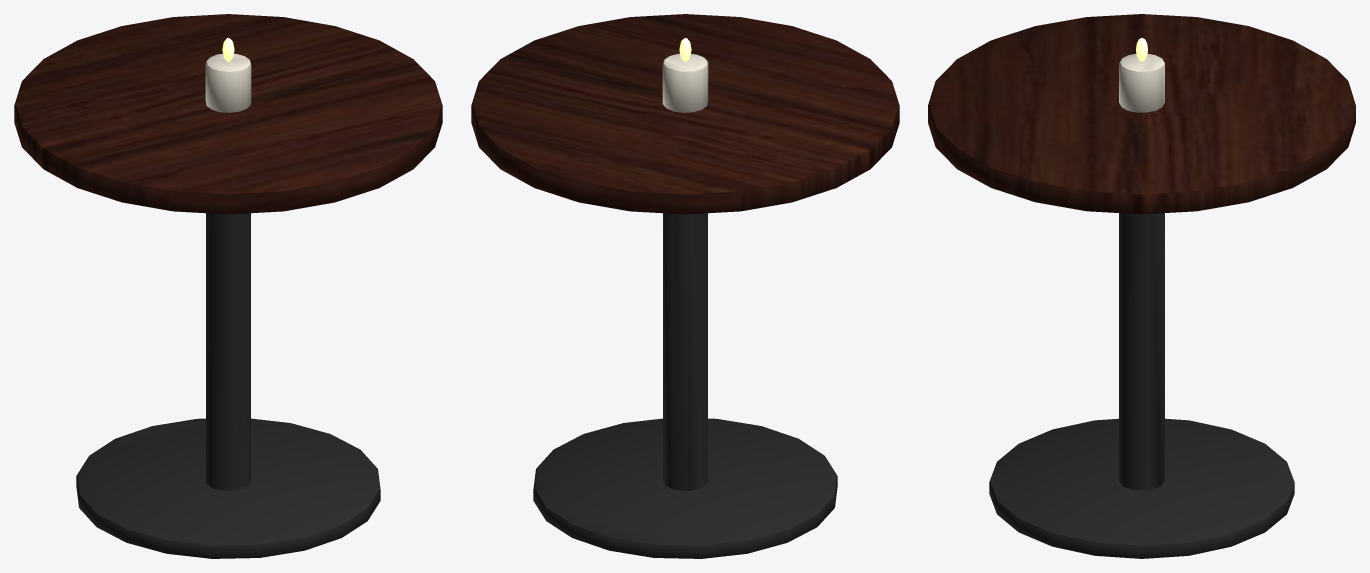
The model's file is bay_table.glb.
The picture shows the model from 3 angles, left to right: view 1: azimuth 30°, elevation 25°; view 2: azimuth 150°, elevation 25°; view 3: azimuth 270°, elevation 25°; orthographic projection.
Visible parts, largest first — view 1: Bay table, Black plastic, Candle; view 2: Bay table, Black plastic, Candle; view 3: Bay table, Black plastic, Candle.
Boxes of the visible parts, box(x1,y1,x2,y2) form: Bay table: box(14, 14, 442, 214); Black plastic: box(76, 213, 380, 558); Candle: box(205, 53, 251, 112); Bay table: box(471, 14, 899, 214); Black plastic: box(533, 213, 837, 558); Candle: box(662, 53, 708, 112); Bay table: box(928, 14, 1355, 214); Black plastic: box(989, 213, 1294, 558); Candle: box(1119, 53, 1164, 112).
Size of the model in its own units: 0.56 by 0.6606 by 0.56.
Materials: 4 (1 with a texture image).
